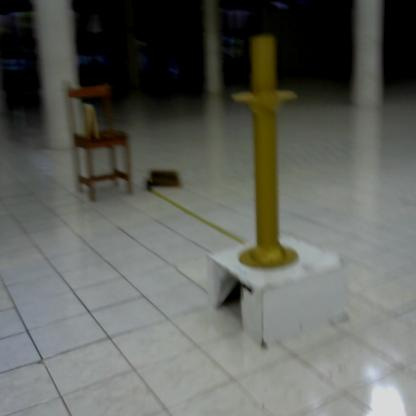pole: (228, 31, 306, 279)
